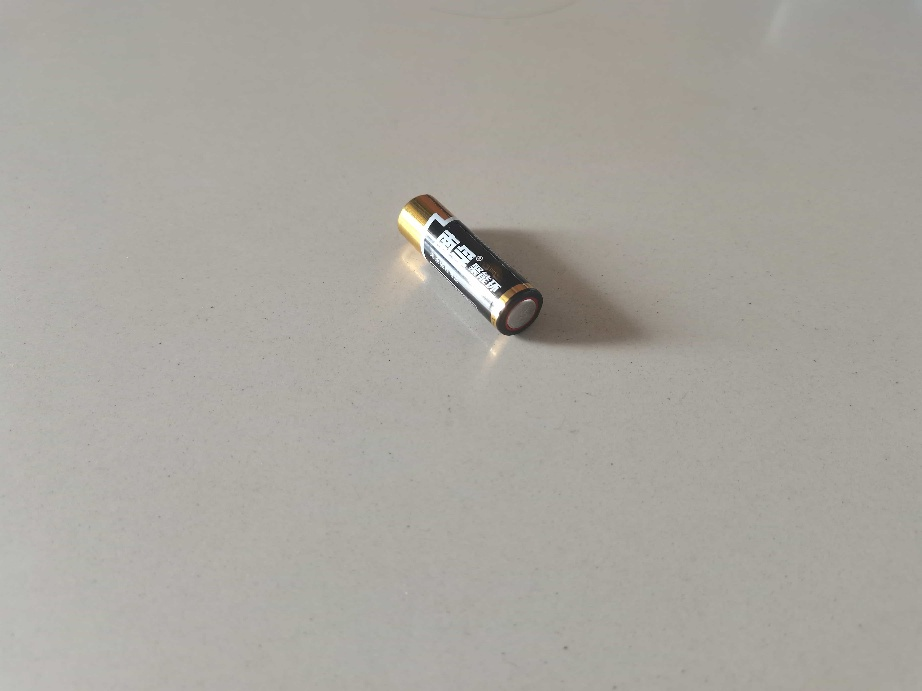battery: (391, 188, 551, 340)
